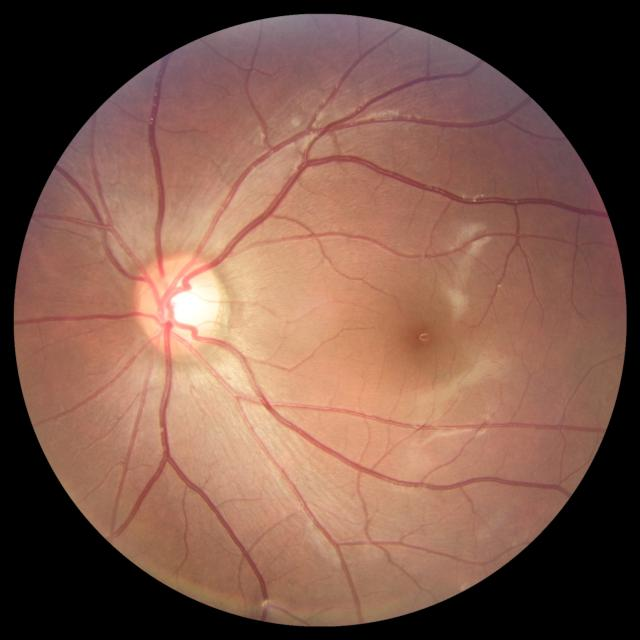OC: (159, 279, 209, 330)
OD: (136, 256, 224, 352)
